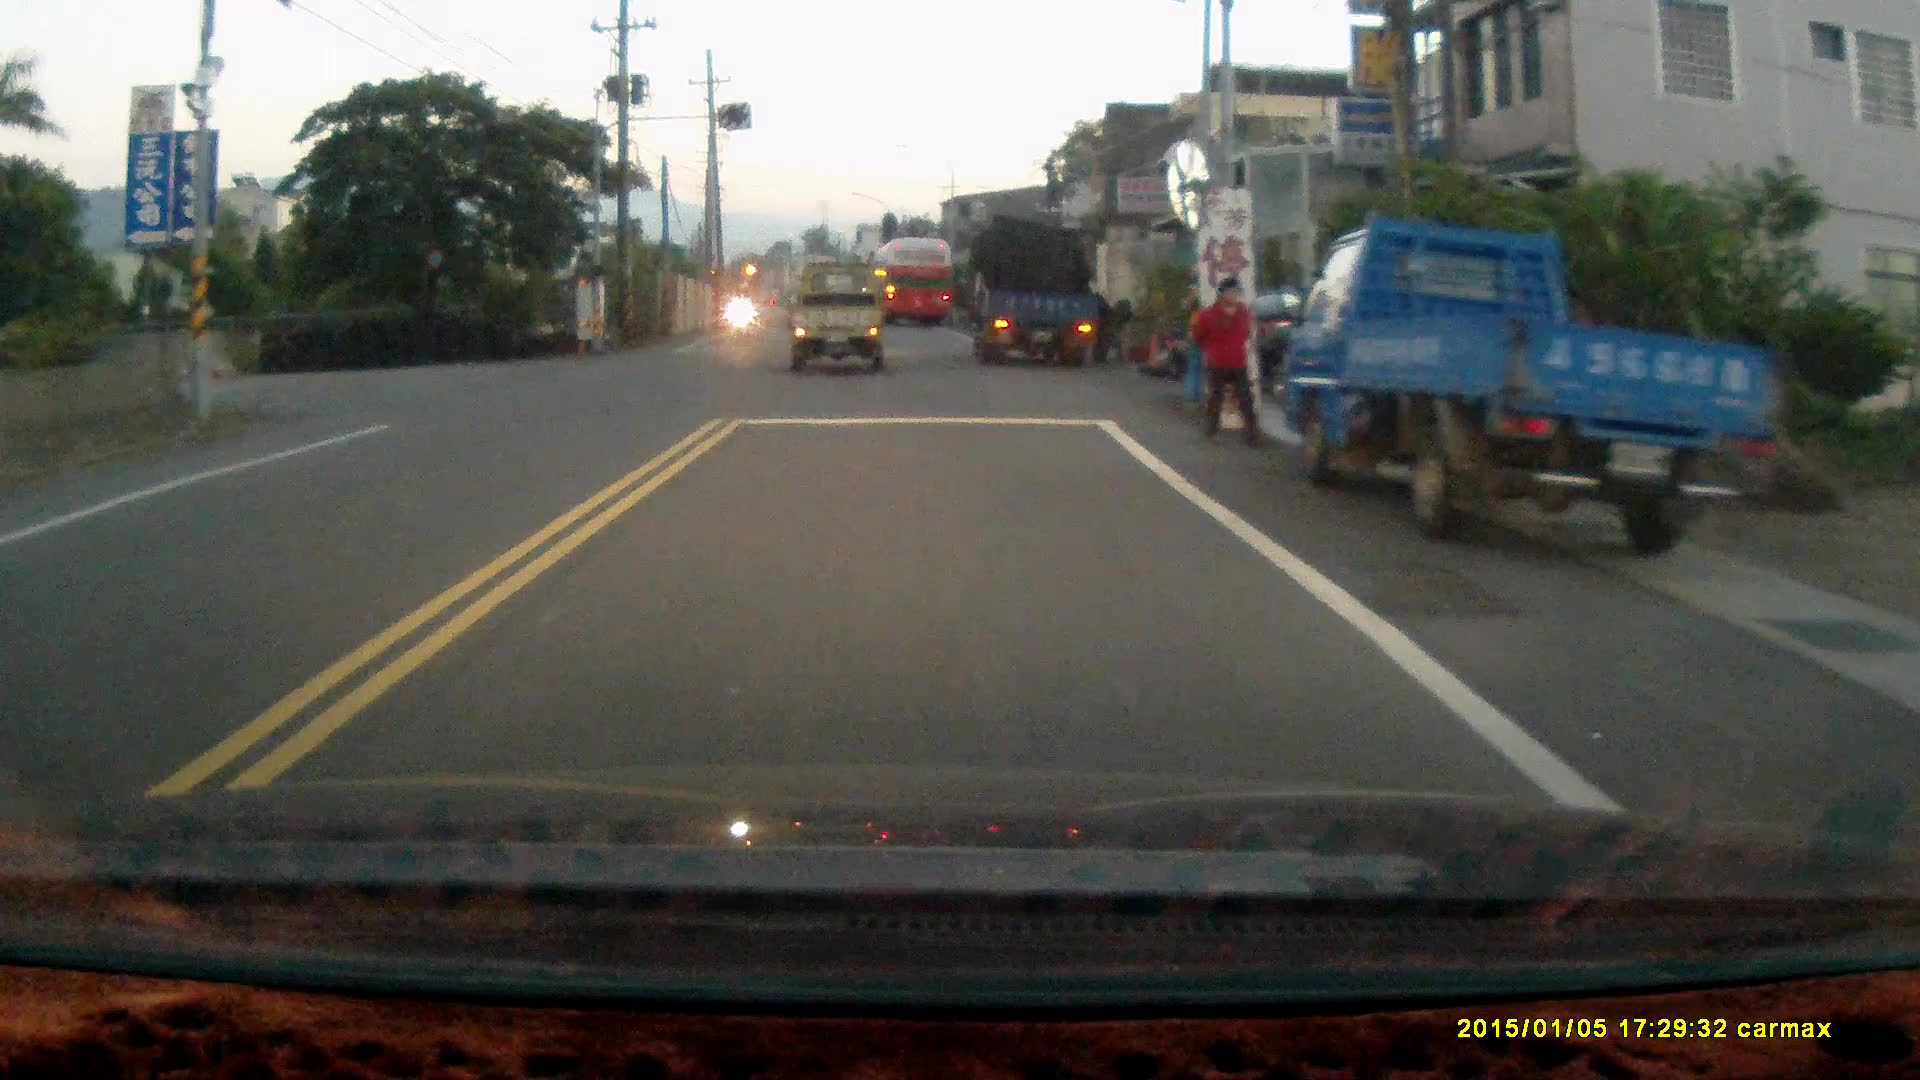pedestrian: (1189, 274, 1268, 454)
rider: (728, 279, 756, 338)
vehicle: (1284, 216, 1785, 557), (972, 221, 1117, 379), (793, 262, 889, 378), (869, 235, 958, 326)
